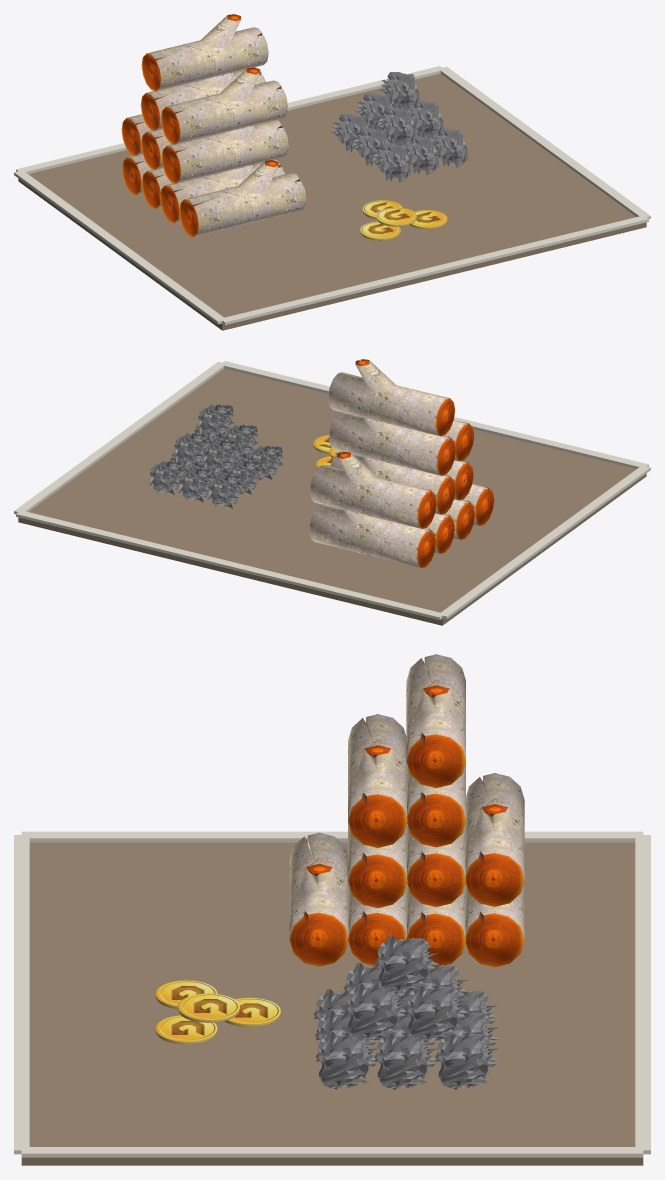
Rendered from CraftingWorkbench_INIT.glb.
3 views of the same model, one above another, from view 1: azimuth 30°, elevation 25°; view 2: azimuth 150°, elevation 25°; view 3: azimuth 270°, elevation 25° (orthographic). The views are drawn at different scales.
Bounding box in the file's own units: 2.45 × 0.9593 × 2.05.
Materials: 7 (4 with a texture image).
